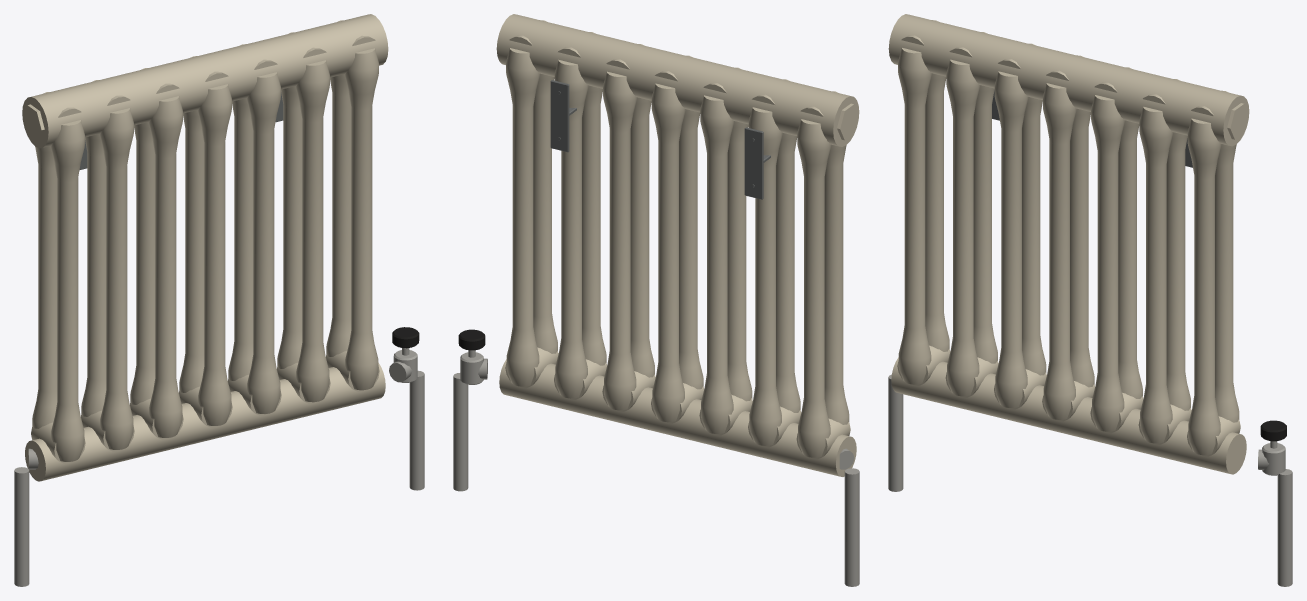
The model's file is radiator-column-2fd91bad362f.glb.
3 renders of one model, left to right at view 1: azimuth 30°, elevation 25°; view 2: azimuth 150°, elevation 25°; view 3: azimuth 330°, elevation 25°, orthographic.
Parts seen in each view (by area): view 1: paint-rescued-cream, brushed; view 2: paint-rescued-cream, brushed, metal; view 3: paint-rescued-cream, brushed.
Part boxes in pixels (x1,y1,x2,y2): paint-rescued-cream: (22,14,388,481); brushed: (14,348,424,586); paint-rescued-cream: (496,14,859,476); brushed: (453,350,859,586); metal: (550,80,770,199); paint-rescued-cream: (888,14,1249,474); brushed: (888,374,1292,586).
Bounding box in the file's own units: 0.625 × 0.71 × 0.1065.
